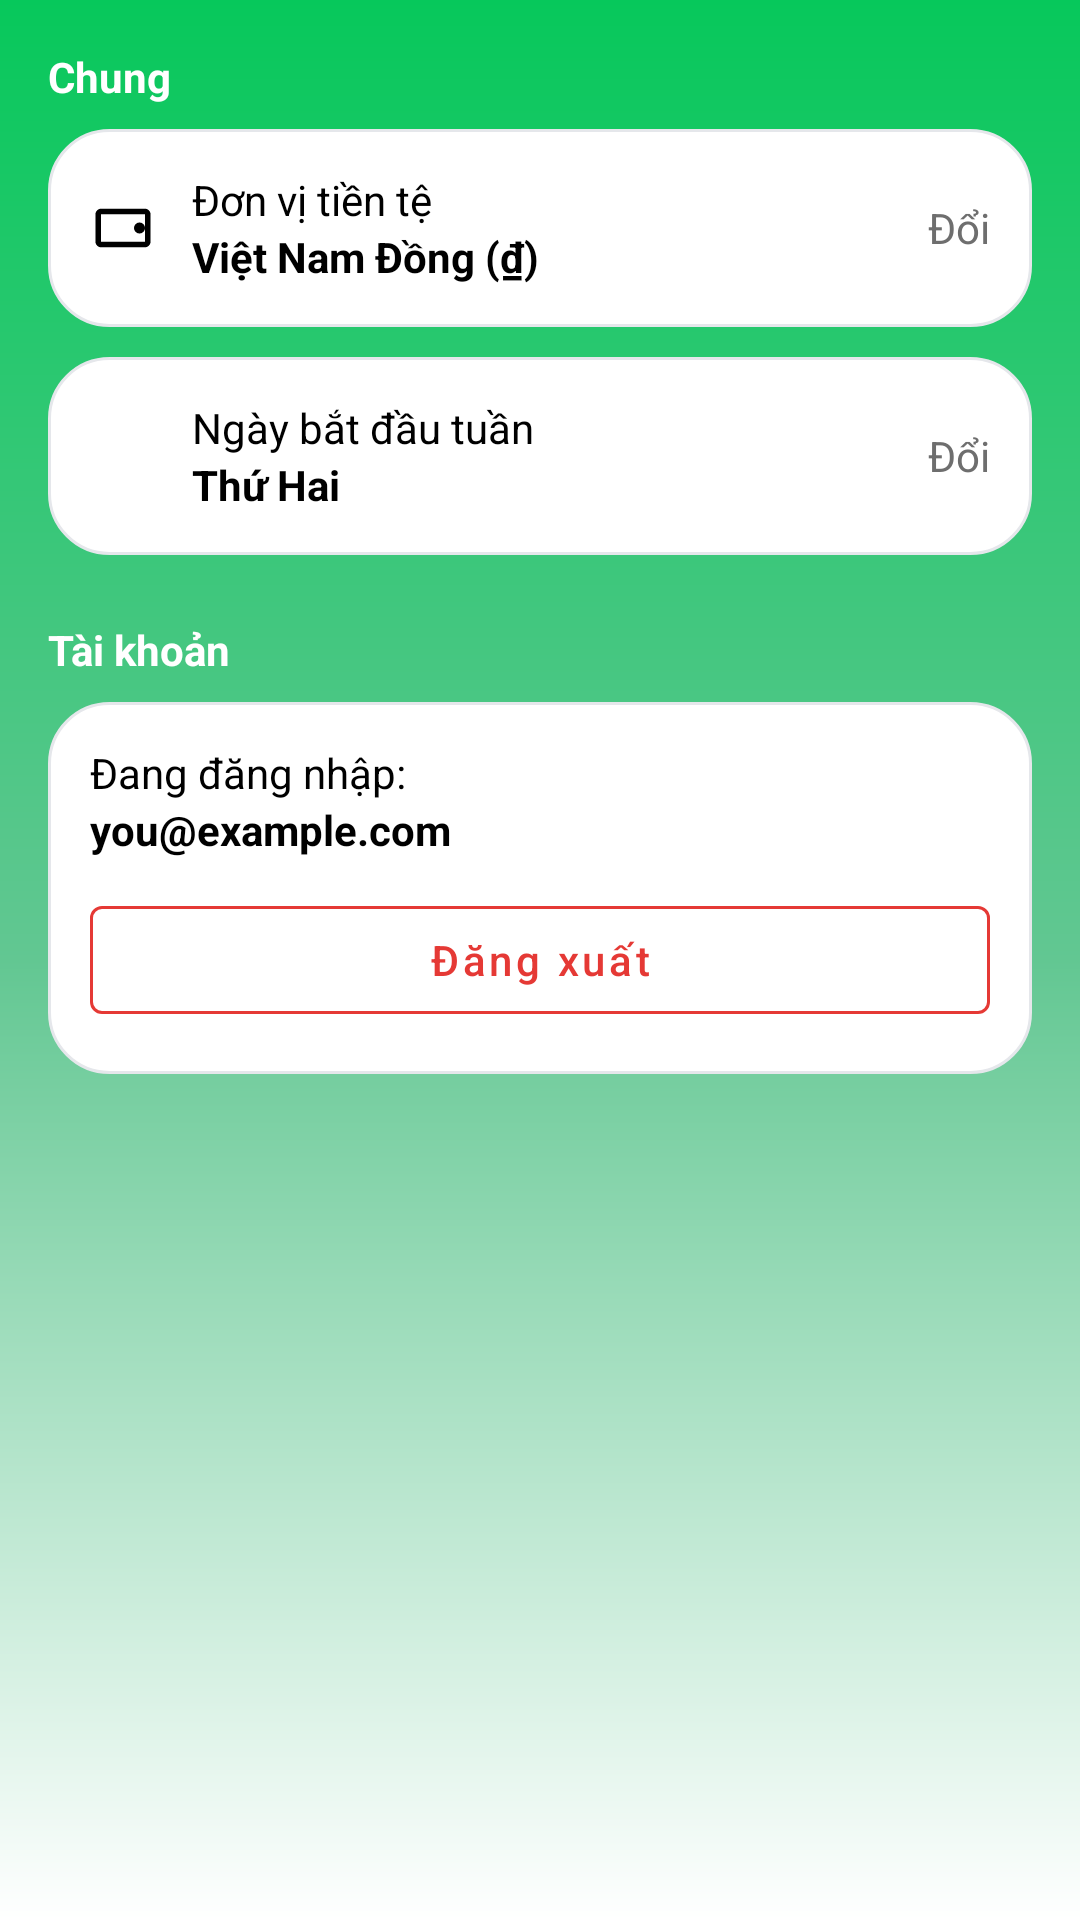

Icons on this 1080 × 1920 Android screen, each with its box as BBox(x1, y1, x2, y2):
wallet: BBox(95, 208, 151, 248)
